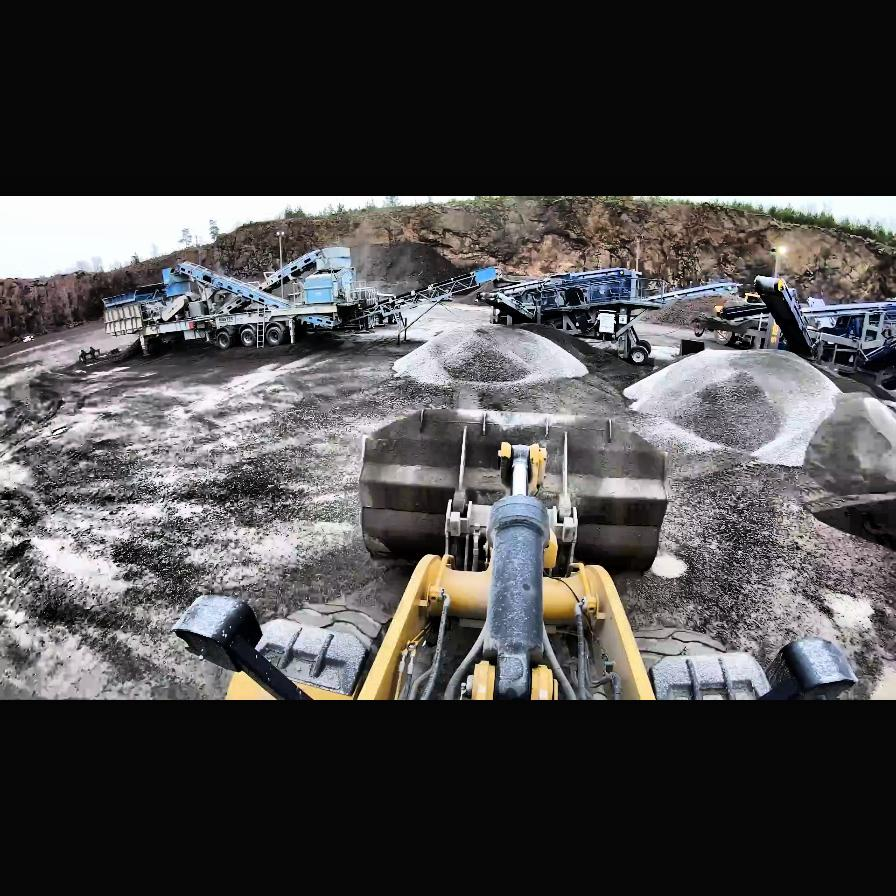anchor: (500, 442, 548, 498)
pile of gravel: (622, 349, 842, 459), (392, 324, 590, 390), (351, 242, 481, 304)
